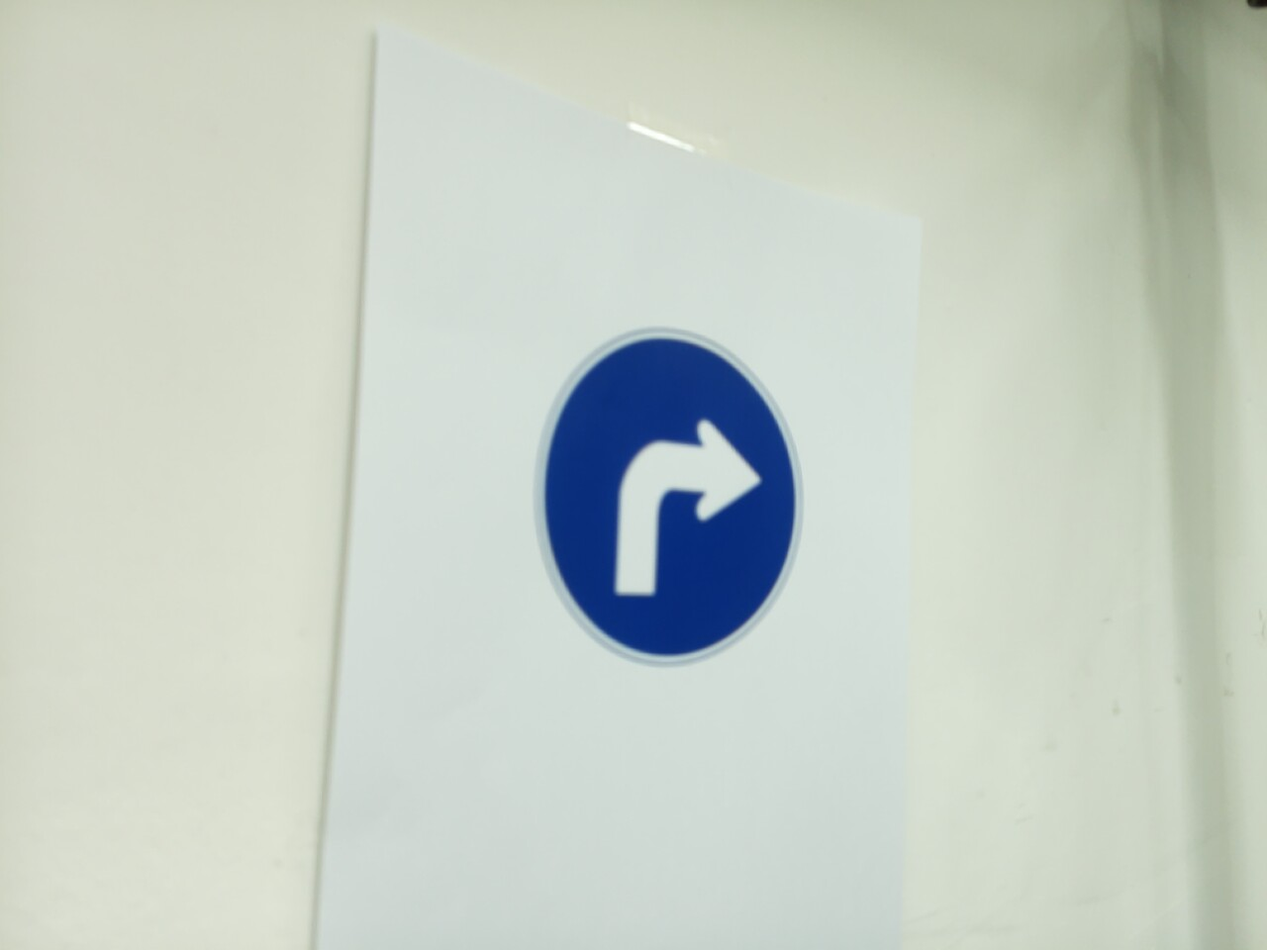right_turn: (536, 329, 805, 666)
